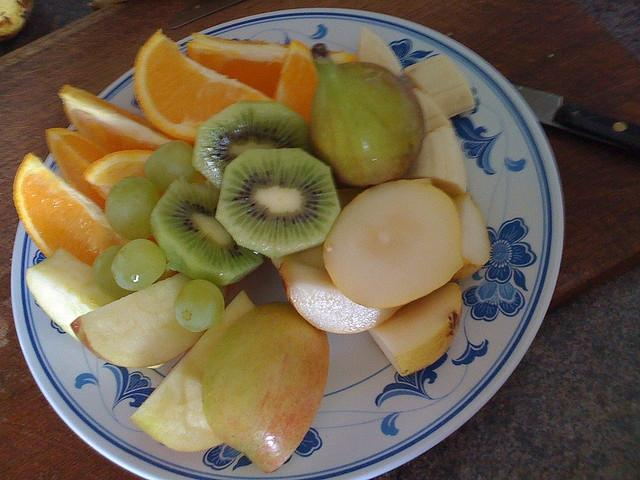apple: (202, 302, 329, 473), (128, 290, 257, 452), (322, 180, 463, 308), (70, 273, 208, 367), (277, 256, 404, 334), (367, 282, 462, 377), (26, 246, 117, 342), (451, 192, 491, 283)
banana: (402, 128, 466, 200), (404, 54, 474, 118), (360, 23, 404, 77), (412, 86, 451, 134)
grape: (105, 176, 160, 240), (110, 237, 168, 292), (144, 140, 197, 192), (174, 280, 225, 332), (92, 244, 136, 300)
kiwi: (216, 147, 342, 259), (150, 175, 264, 287), (192, 100, 312, 190)
orange: (133, 29, 277, 142), (12, 152, 132, 266), (61, 83, 172, 152), (188, 32, 290, 98), (46, 128, 110, 213), (272, 40, 320, 130), (81, 150, 165, 199)
